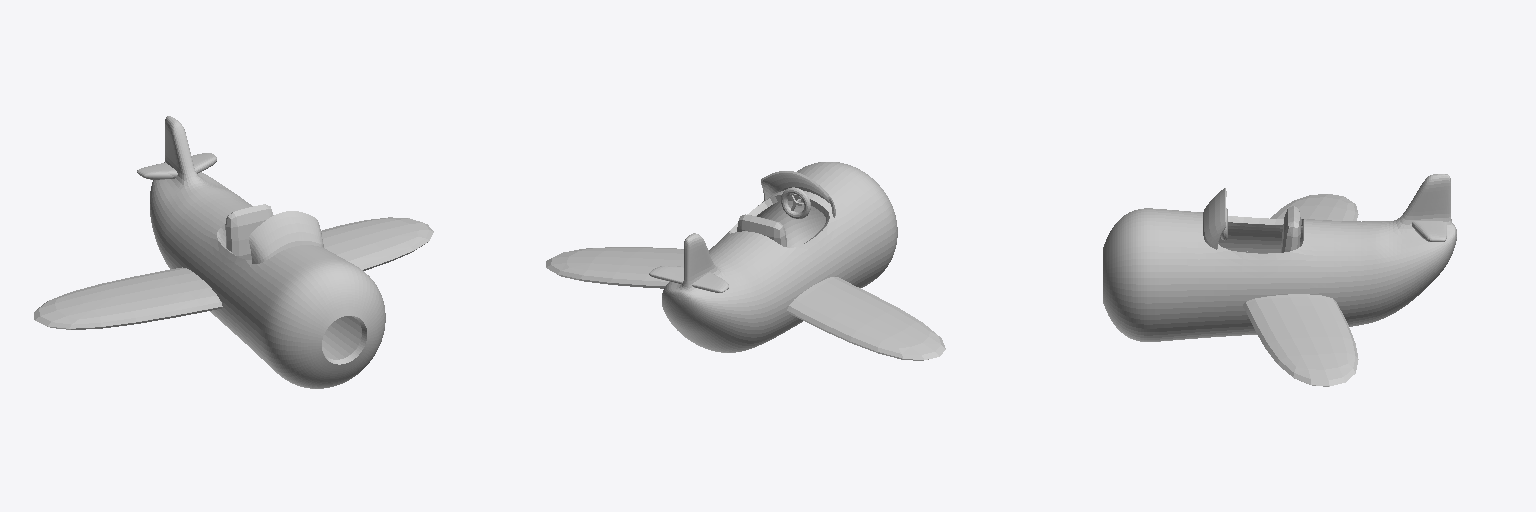
File: plane body.obj
3 views of the same model, side by side, from view 1: azimuth 30°, elevation 25°; view 2: azimuth 150°, elevation 25°; view 3: azimuth 270°, elevation 25° (orthographic).
Visible parts, largest first — view 1: Plane_Body_Sphere.002; view 2: Plane_Body_Sphere.002; view 3: Plane_Body_Sphere.002.
Part boxes in pixels (bbox=[...]): Plane_Body_Sphere.002: bbox=[34, 116, 433, 388]; Plane_Body_Sphere.002: bbox=[546, 162, 945, 360]; Plane_Body_Sphere.002: bbox=[1103, 174, 1456, 386].
Bounding box in the file's own units: 6.4 × 2.49 × 5.